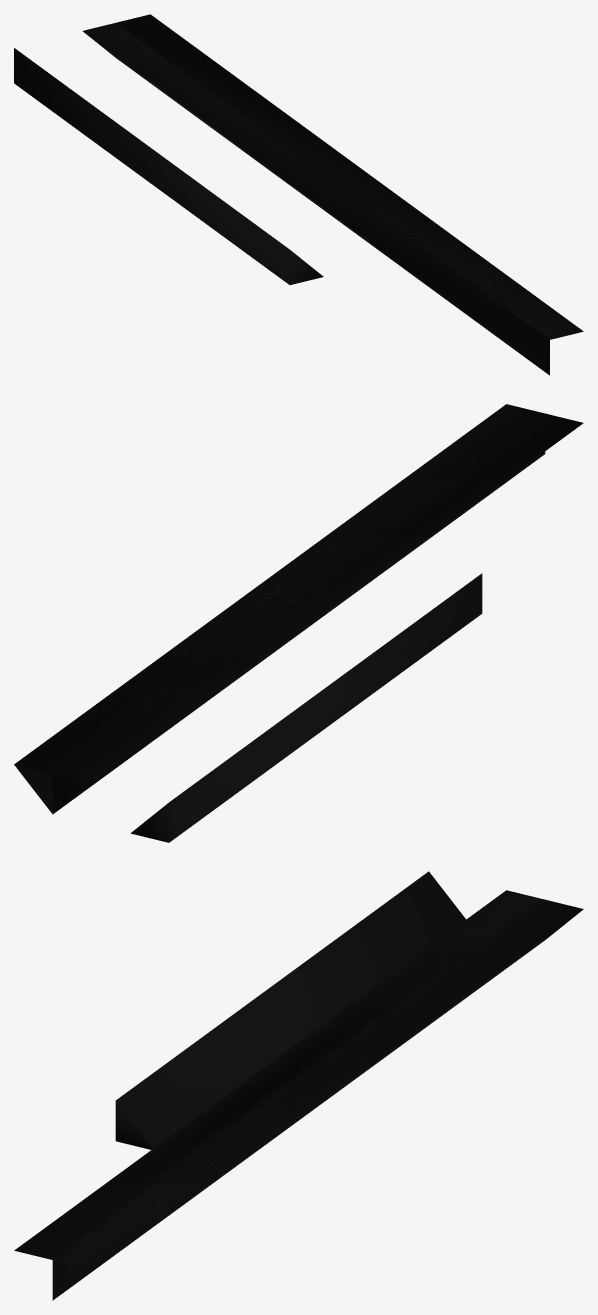
3 views of the same model, one above another, from view 1: azimuth 30°, elevation 25°; view 2: azimuth 150°, elevation 25°; view 3: azimuth 330°, elevation 25° (orthographic). The views are drawn at different scales.
Bounding box in the file's own units: 0.32 × 0.08 × 1.76.
Materials: 1 (1 with a texture image).
